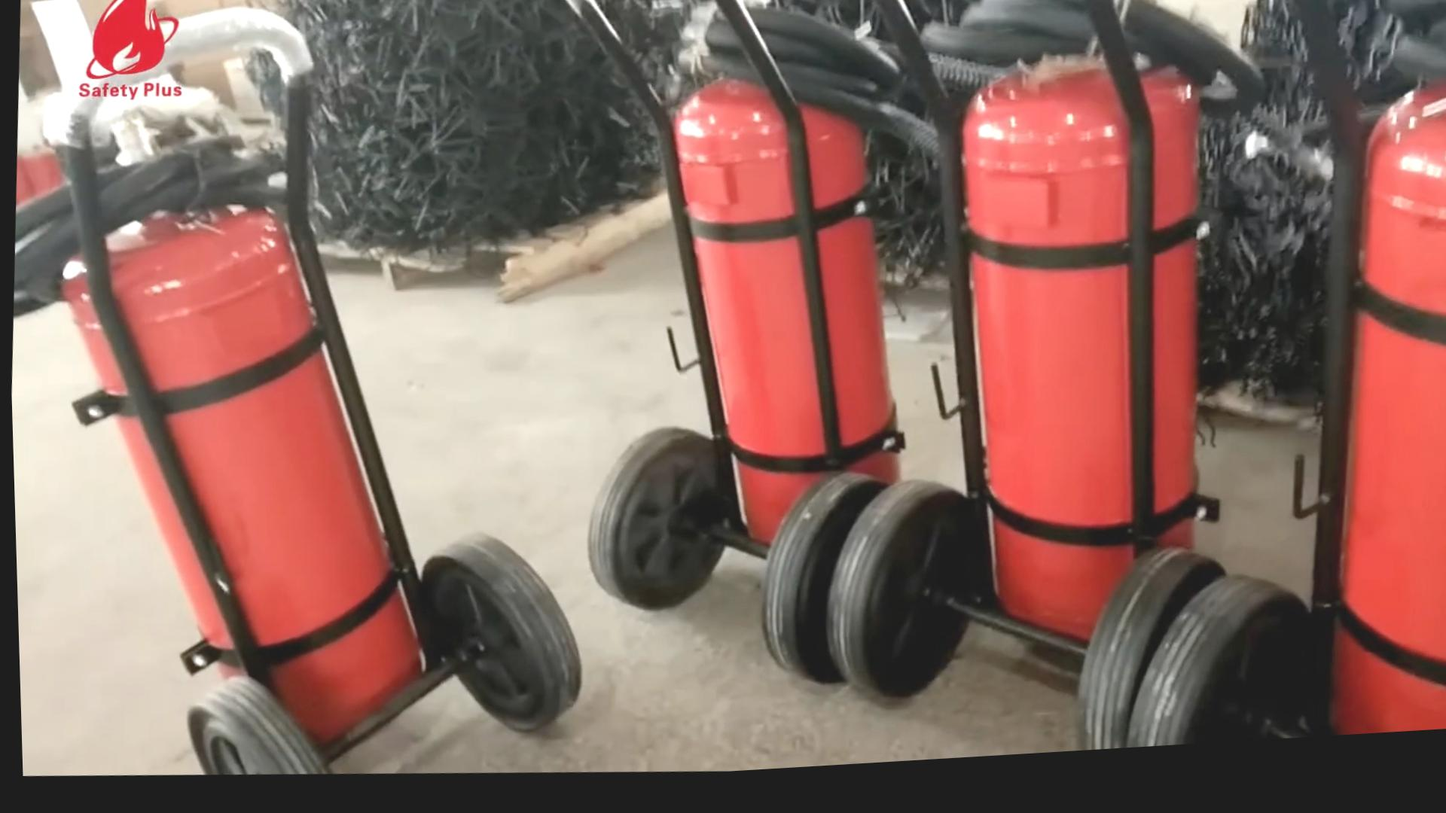FireExtinguisher: (3, 124, 471, 765), (922, 47, 1239, 703), (601, 54, 926, 605), (1278, 54, 1446, 754)
